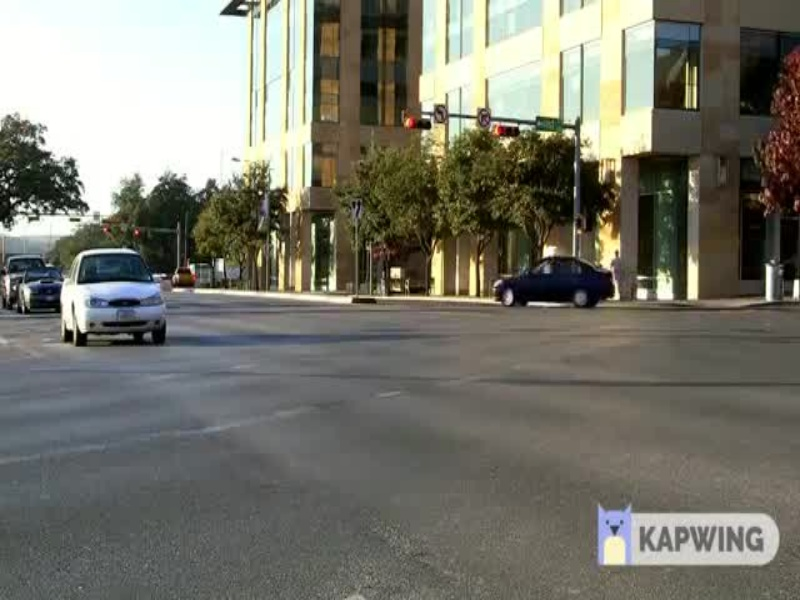car: (53, 247, 174, 348), (483, 254, 617, 312)
